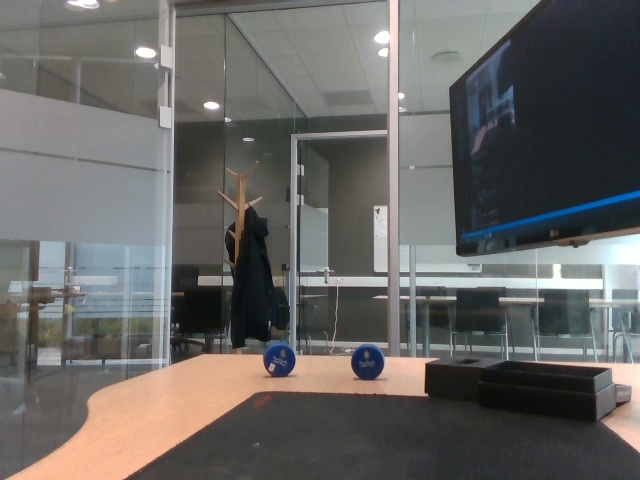alfa: (348, 340, 386, 381), (260, 341, 297, 379)
